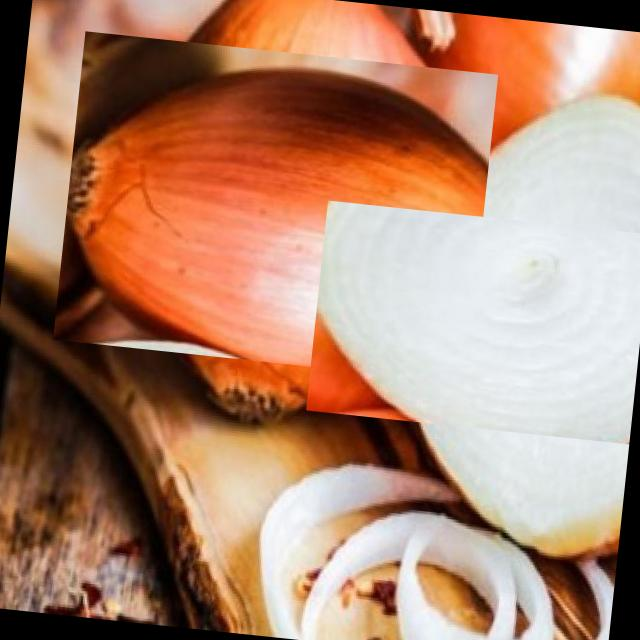Onion: (75, 8, 474, 406), (355, 149, 640, 500)
